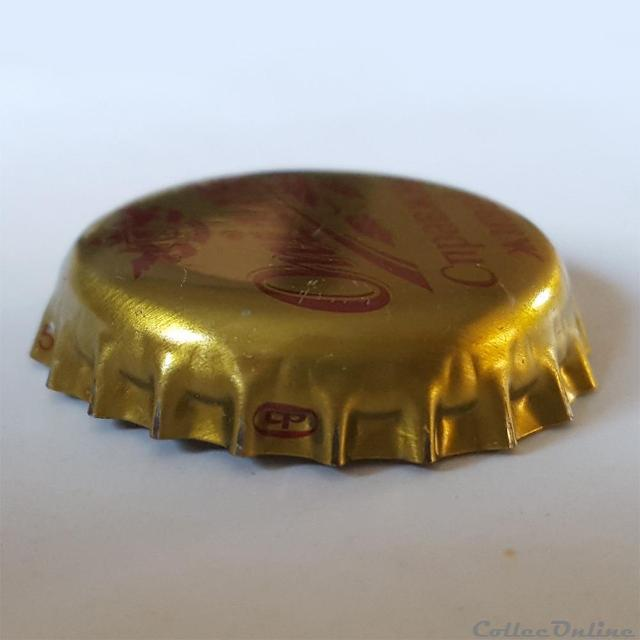Metal: (34, 166, 604, 470)
